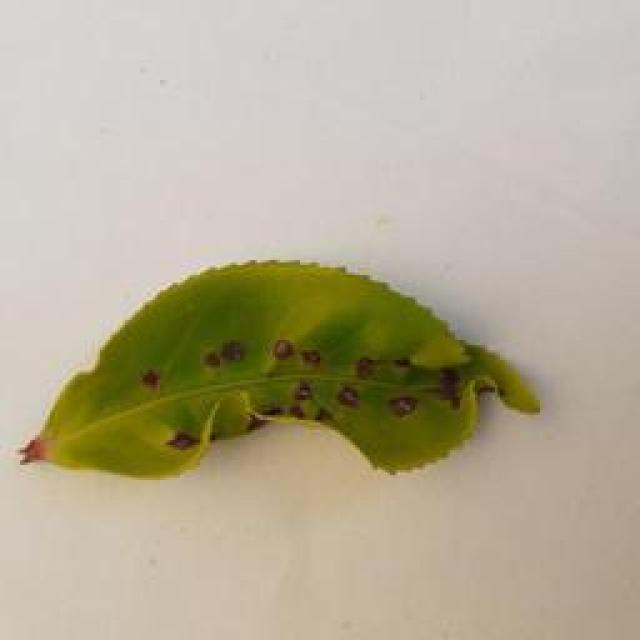Helopeltis: (12, 247, 538, 500)
